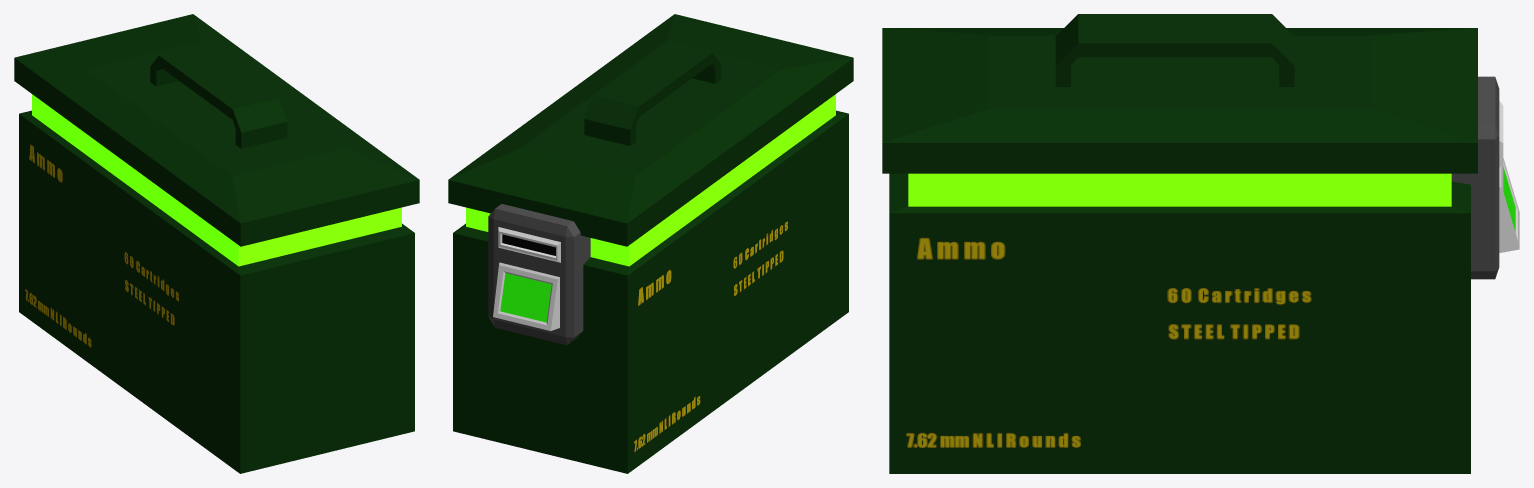
The model's file is AmmoBox.glb.
The picture shows the model from 3 angles, left to right: view 1: azimuth 30°, elevation 25°; view 2: azimuth 150°, elevation 25°; view 3: azimuth 270°, elevation 25°; orthographic projection. The views are drawn at different scales.
Parts seen in each view (by area): view 1: AmmoBox; view 2: AmmoBox, KeyPad; view 3: AmmoBox, KeyPad.
Part boxes in pixels (x1,y1,x2,y2): AmmoBox: (14,14,419,473); AmmoBox: (448,14,853,473); KeyPad: (488,204,590,345); AmmoBox: (882,14,1477,473); KeyPad: (1451,76,1519,279).
Bounding box in the file's own units: 2.05 × 3.24 × 4.8.
Materials: 6 (1 with a texture image).
